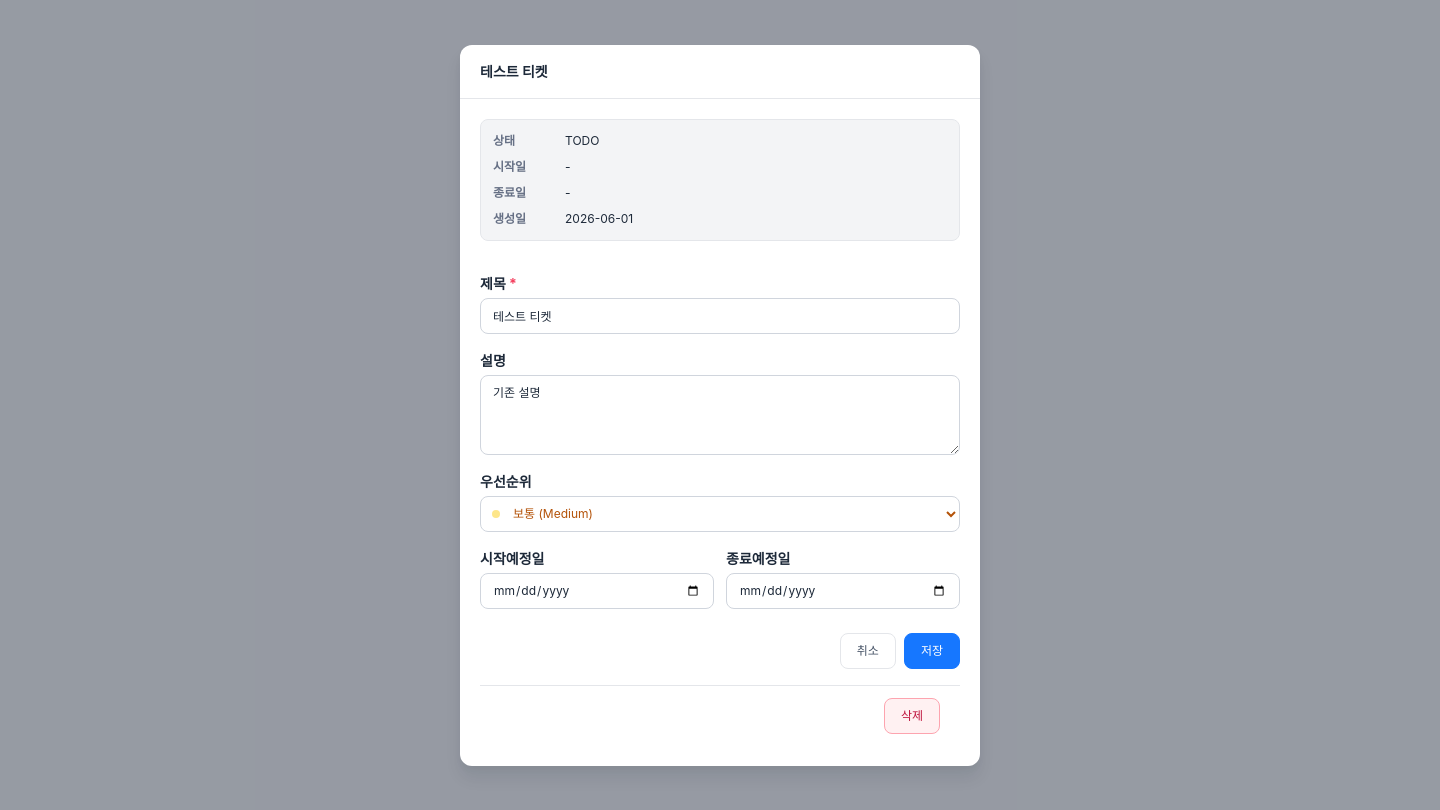
TicketModal › C005-6: 삭제 버튼 클릭 → ConfirmDialog 표시
What coordinates should you click on to do the following:
click the button "삭제"
I would click on:
 (912, 716)
Its box is 884,698 -> 940,734.
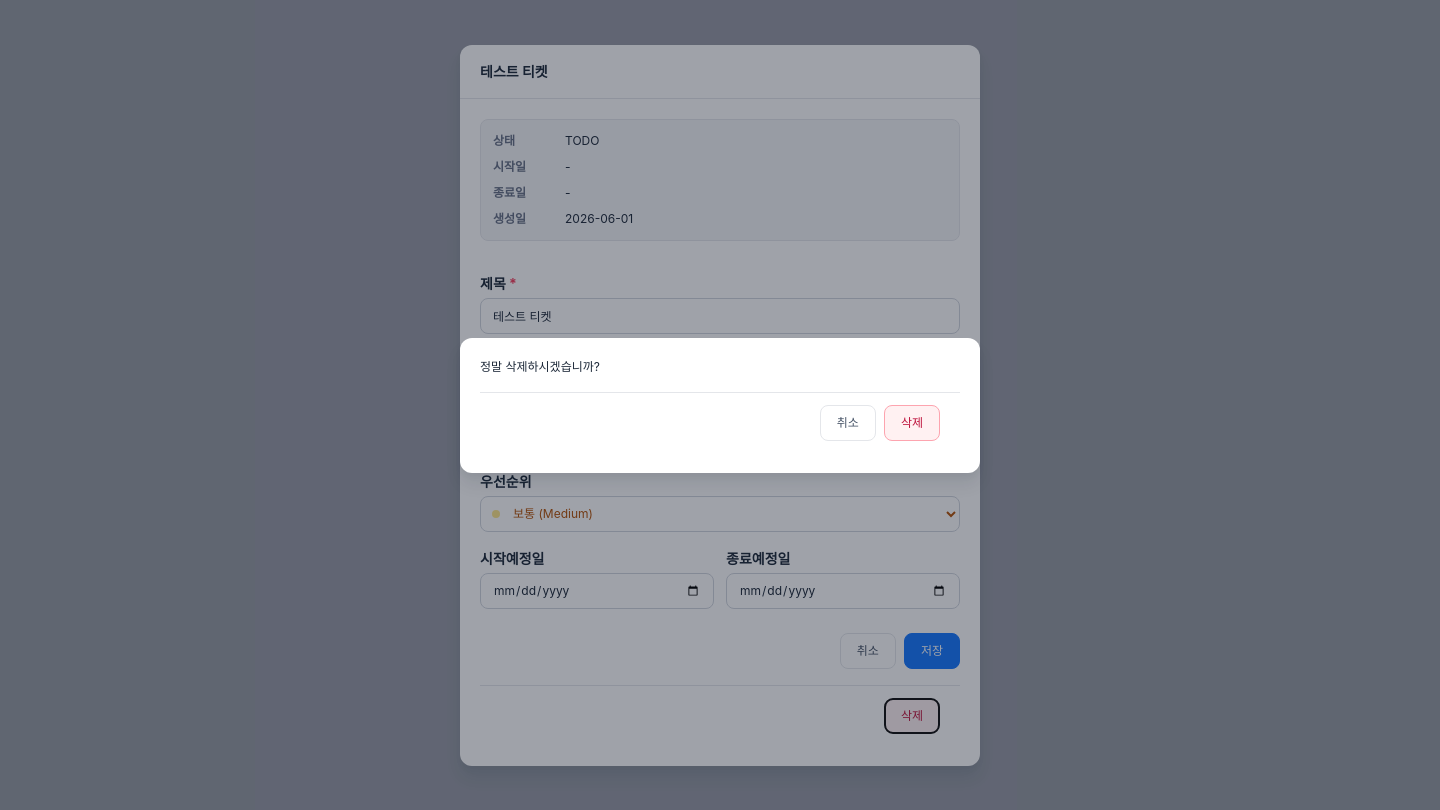
expect the text "정말 삭제하시겠습니까?" is shown: met, box 480,358 -> 600,374
